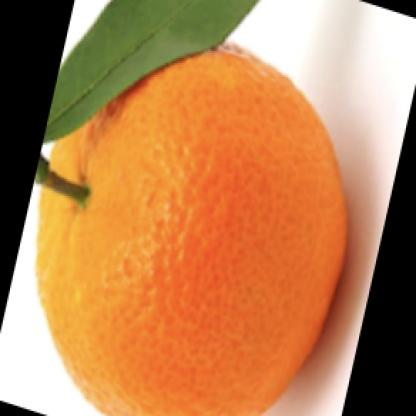fresh: (37, 38, 348, 416)
